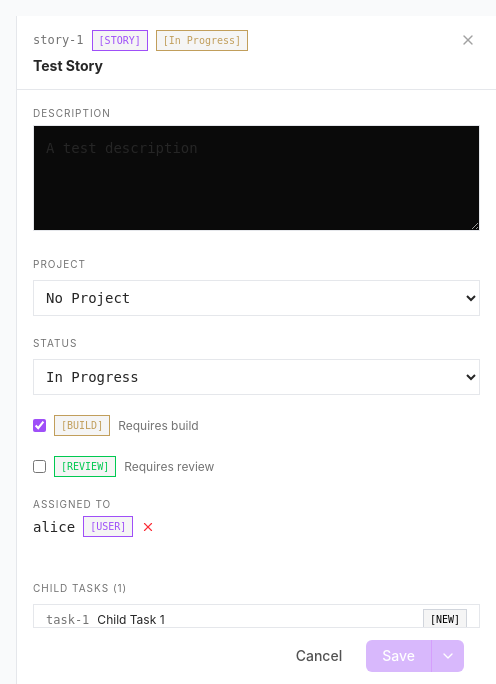
Test: StoryDetail › editing and mutations › toggles requires_build checkbox
The width and height of the screenshot is (496, 684).
Click the checkbox in the row of "Requires build" at (40, 426), box top-left (33, 419), bottom-right (46, 432)
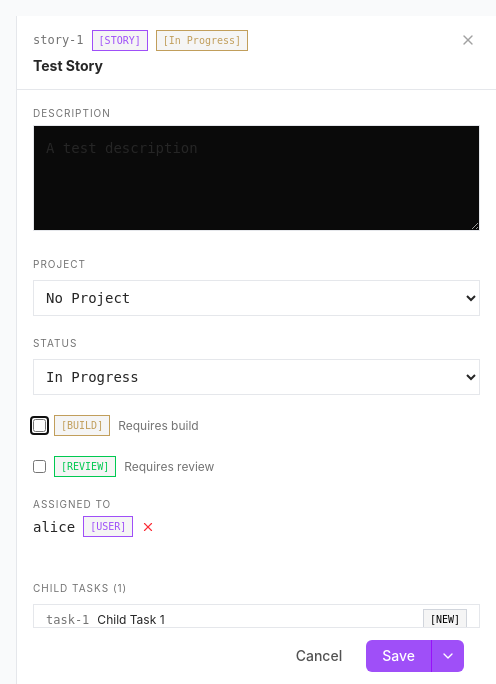
Expected: the checkbox in the row of "Requires build" is not checked, top-left (33, 419), bottom-right (46, 432)
Expected: the button "Save" is enabled, top-left (366, 640), bottom-right (431, 672)
